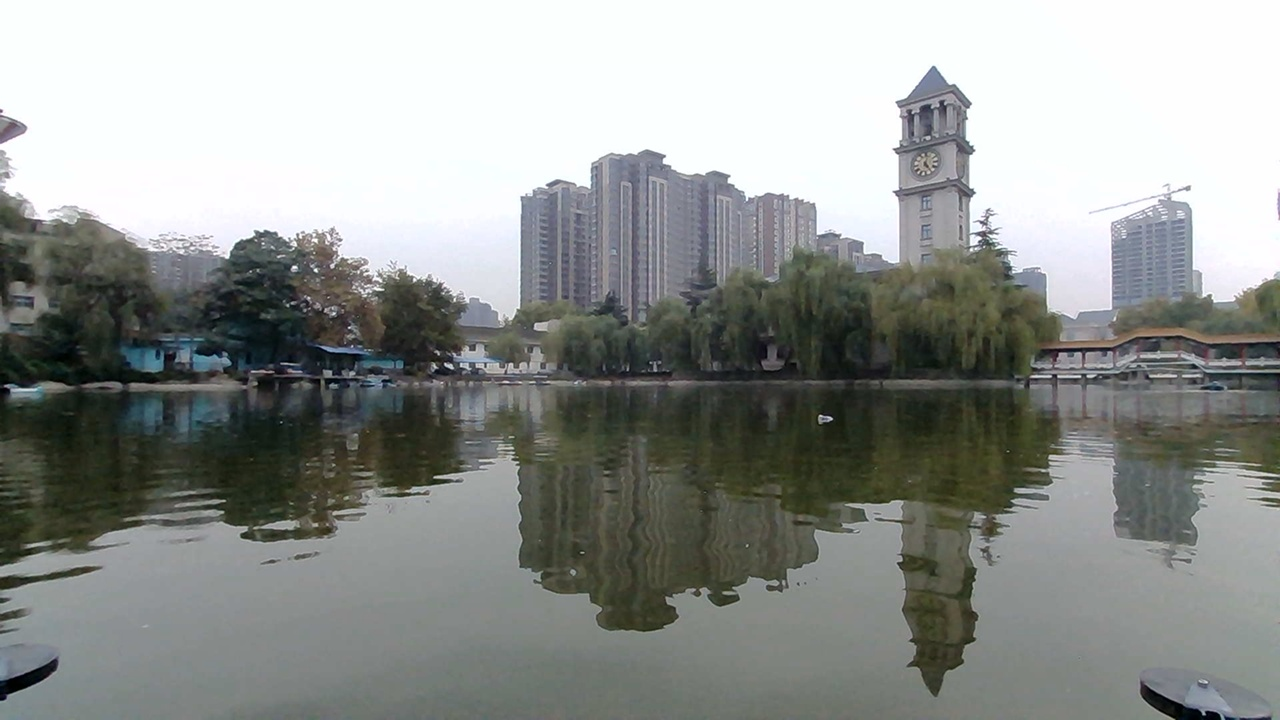bottle: (813, 401, 852, 431)
